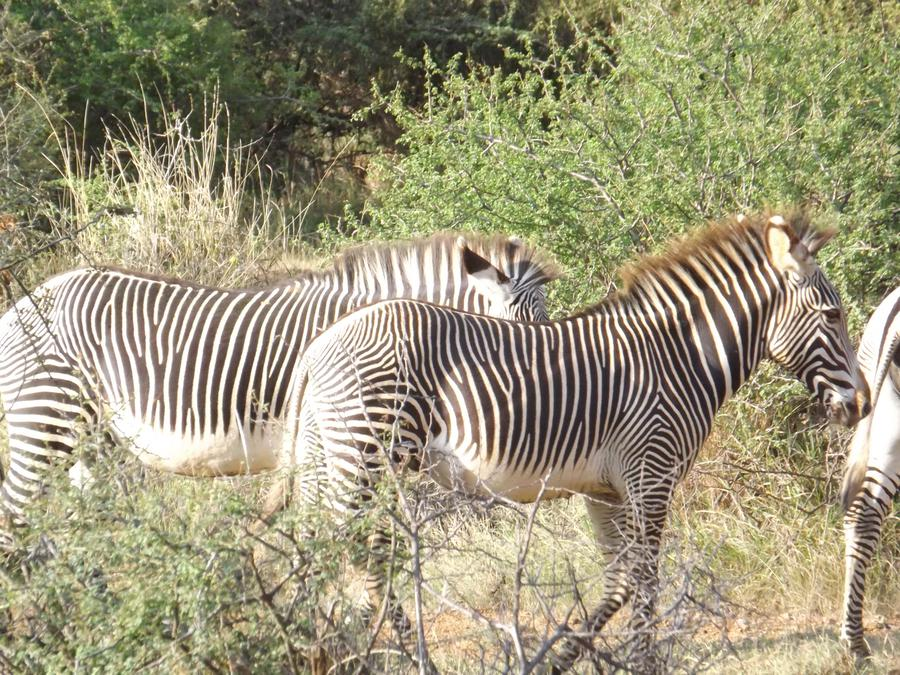zebra_grevys: (305, 291, 680, 498)
